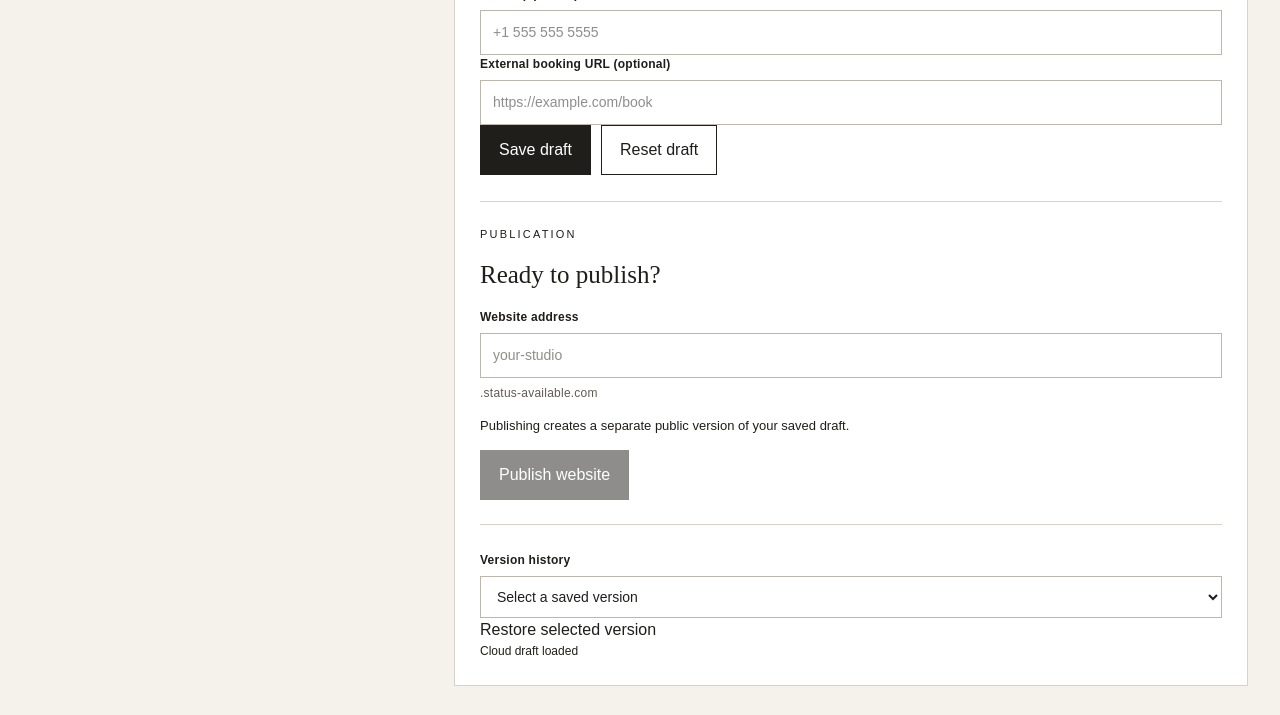
Customer publication interface › allows retry after an address collision
This screenshot has width=1280, height=715.
(page scrolled)
Type "example-studio" into the field with placeholder "your-studio" at (851, 355), box left=480, top=333, right=1222, bottom=378
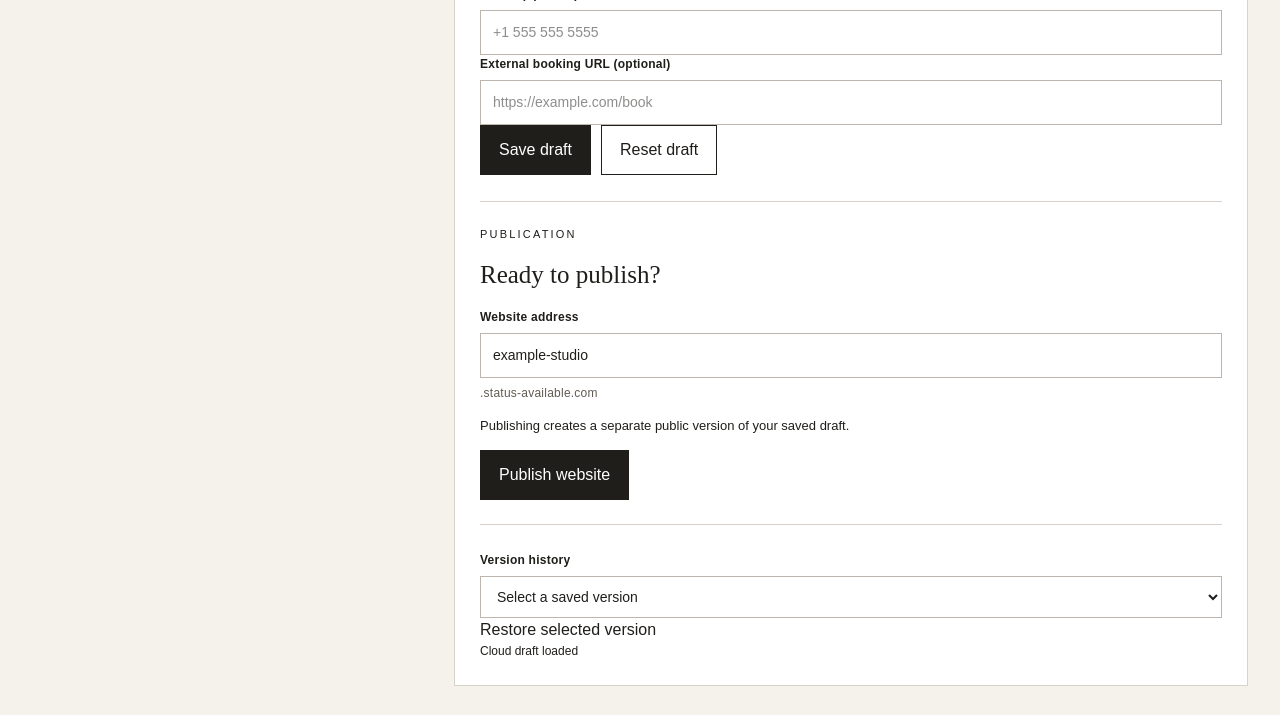
Click the button "Publish website" at (555, 475), box left=480, top=450, right=629, bottom=500
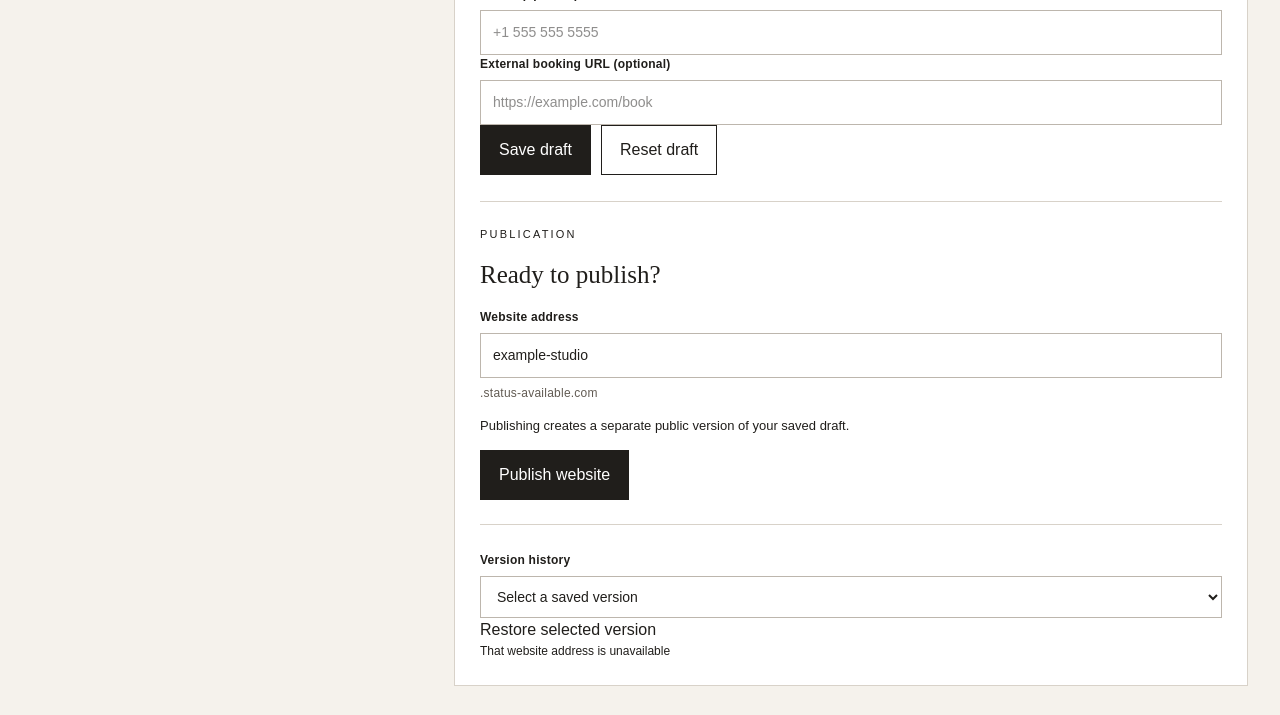
Result: the text "That website address is unavailable" is shown at left=480, top=644, right=670, bottom=658
Replace the text in the field with placeholder "your-studio" with "another-studio" at (851, 355), box left=480, top=333, right=1222, bottom=378
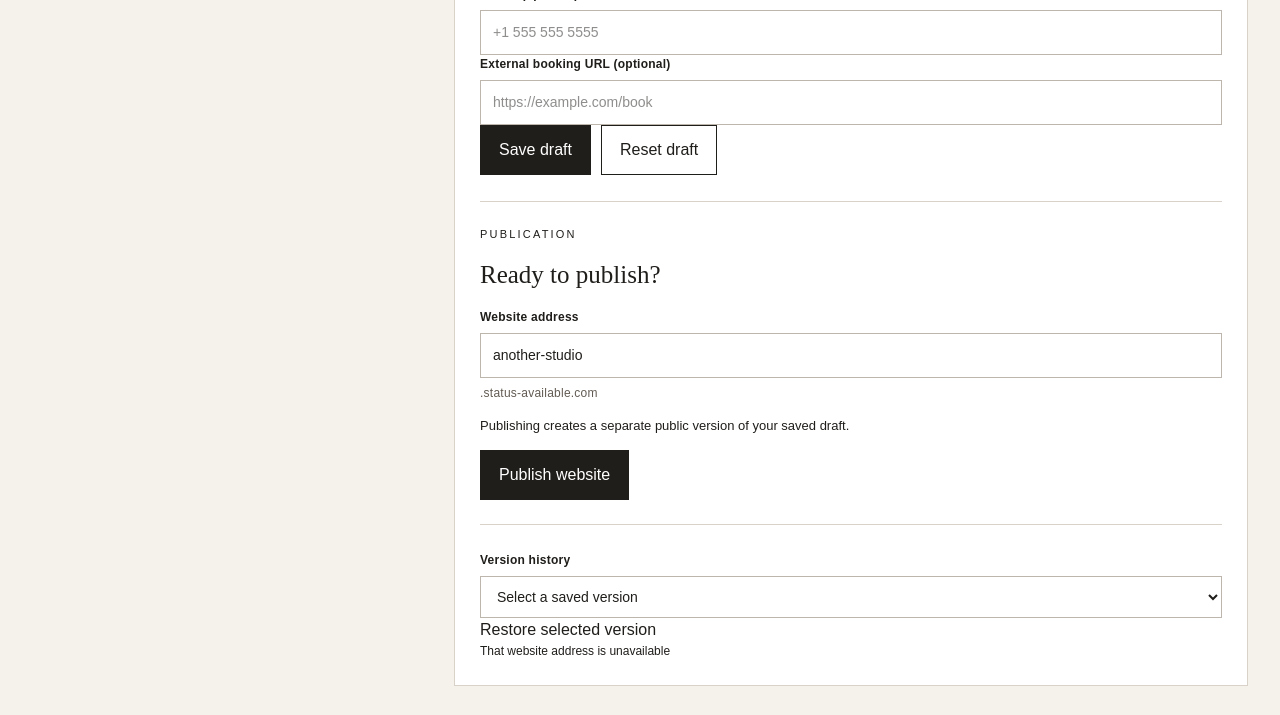
Click the button "Publish website" at (555, 475), box left=480, top=450, right=629, bottom=500
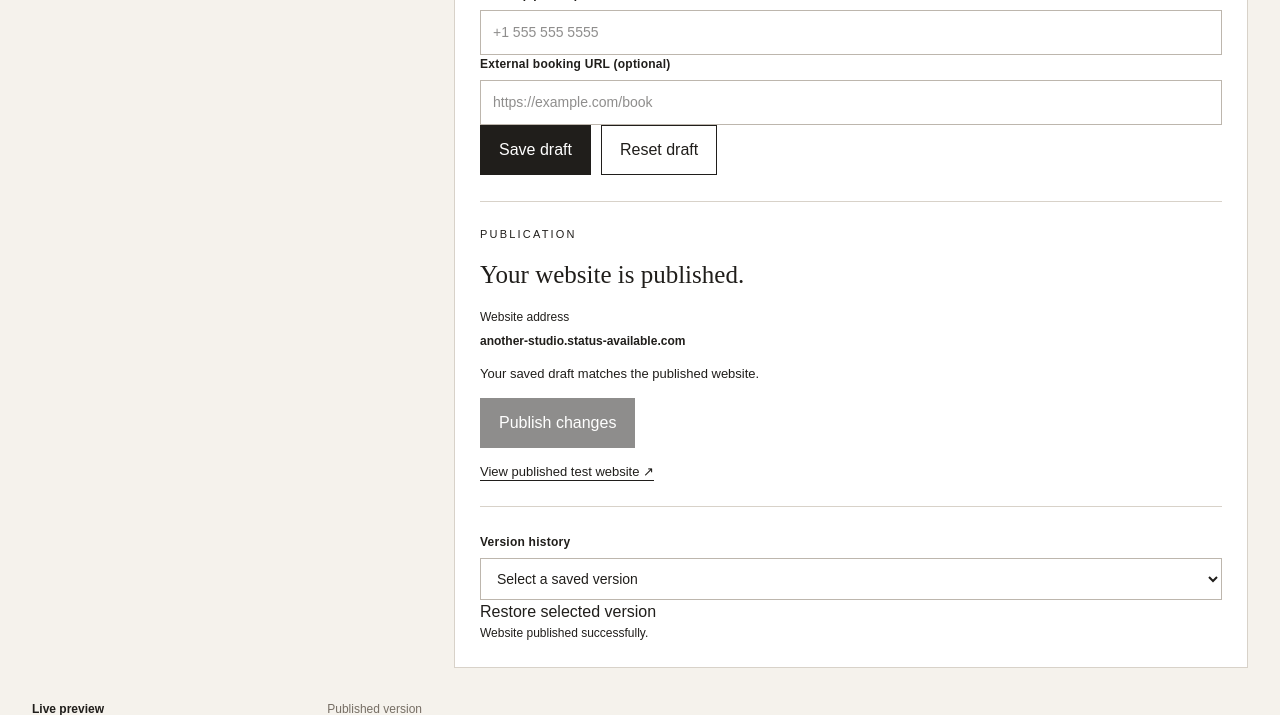
Result: the text "Website published successfully." is shown at left=480, top=626, right=648, bottom=640
